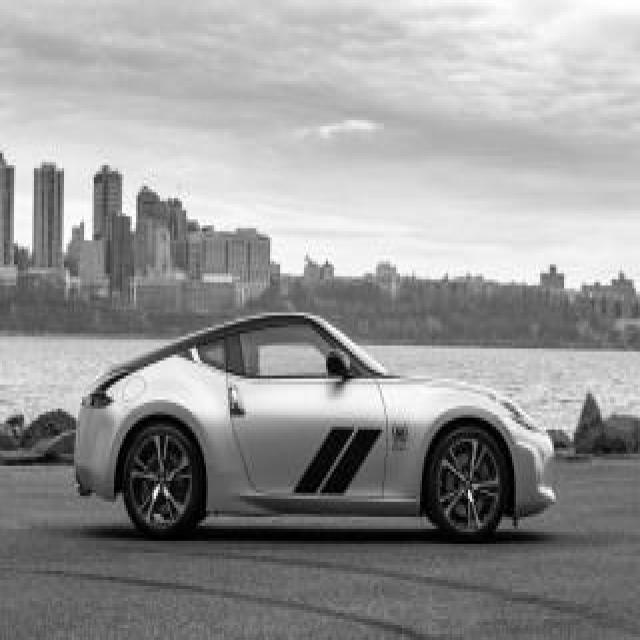Car: (76, 315, 555, 540)
